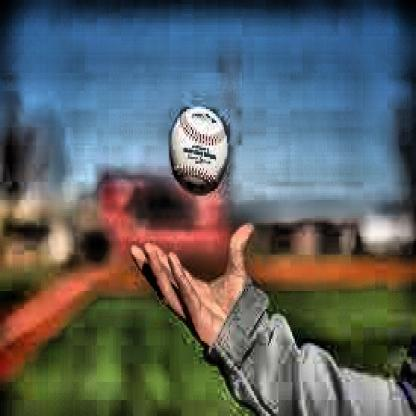baseball: (170, 106, 230, 197)
